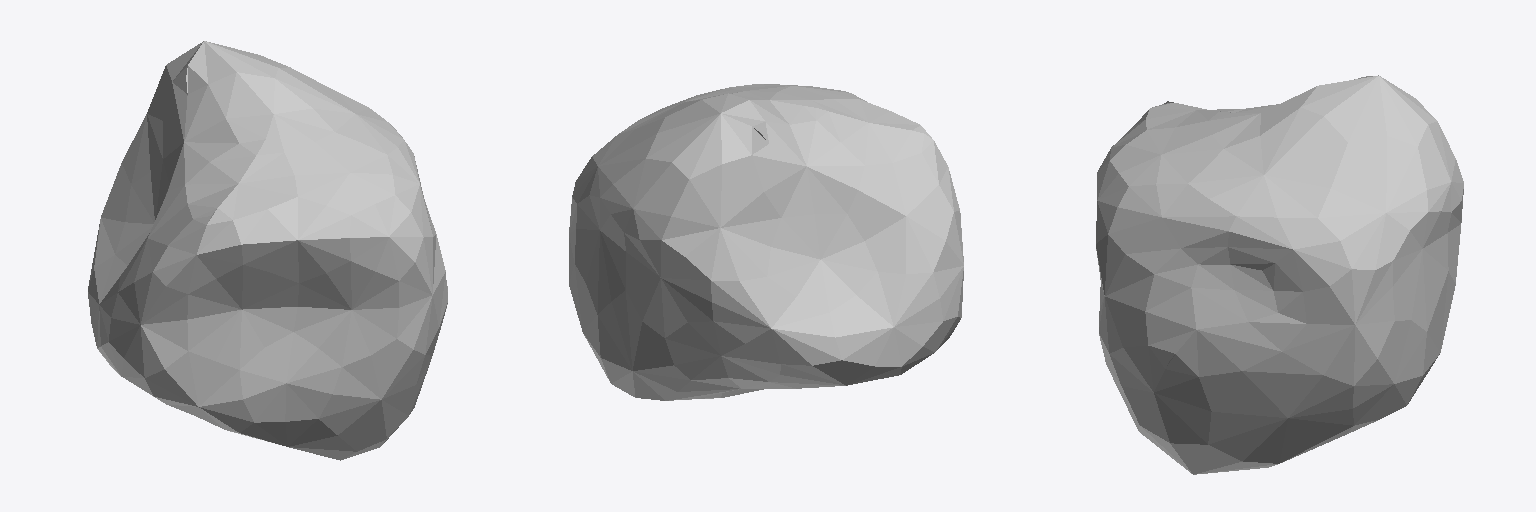
The model's file is asteroid.obj.
The picture shows the model from 3 angles: view 1: azimuth 30°, elevation 25°; view 2: azimuth 150°, elevation 25°; view 3: azimuth 270°, elevation 25°; orthographic projection.
Parts seen in each view (by area): view 1: Cube; view 2: Cube; view 3: Cube.
Part boxes in pixels (x1,y1,x2,y2): Cube: (88,41,447,460); Cube: (569,84,963,400); Cube: (1096,75,1463,474).
Size of the model in its own units: 1.84 by 1.96 by 1.82.